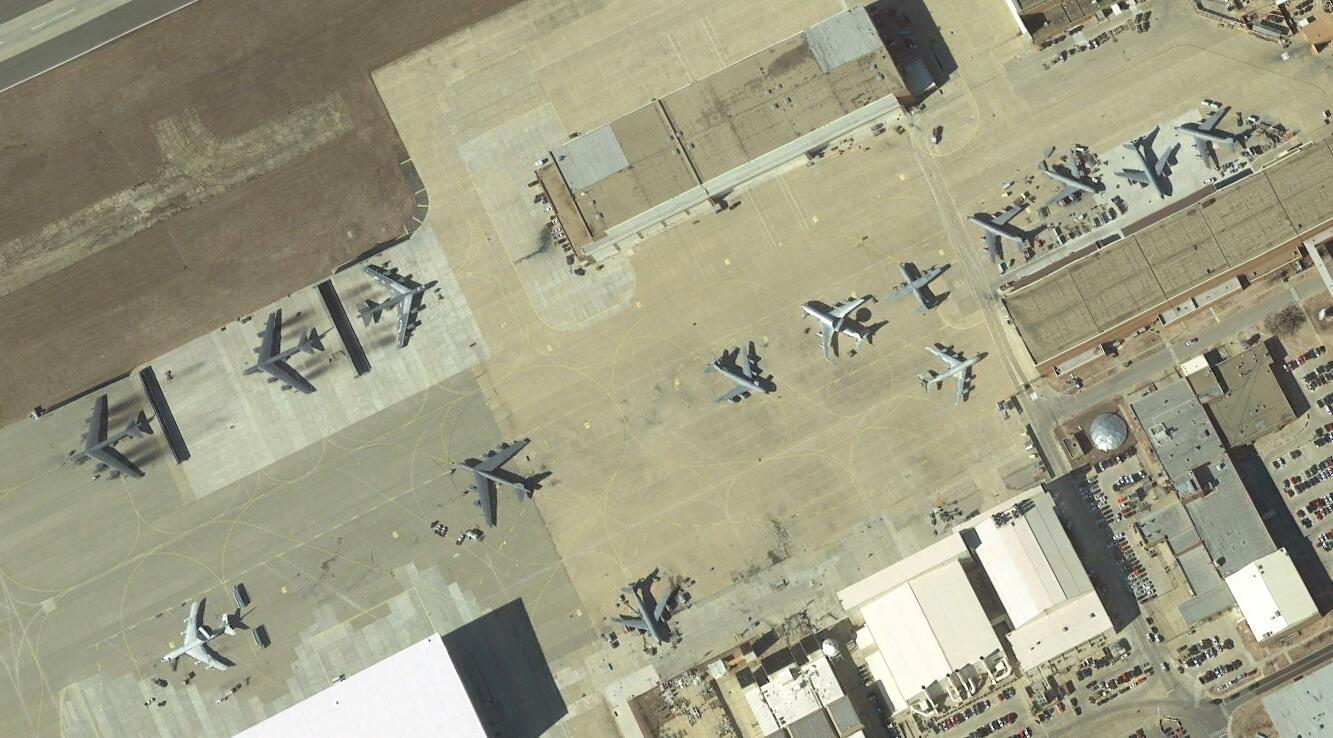A11: (921, 342, 989, 405)
A14: (965, 202, 1032, 262), (613, 584, 676, 645), (1175, 107, 1236, 169), (1038, 147, 1099, 209), (708, 347, 772, 404), (1118, 137, 1175, 198)
A2: (892, 259, 952, 311)
A7: (161, 602, 242, 674), (801, 297, 881, 359)
A8: (68, 395, 156, 484), (458, 438, 545, 528), (356, 264, 441, 354), (241, 311, 325, 398)
